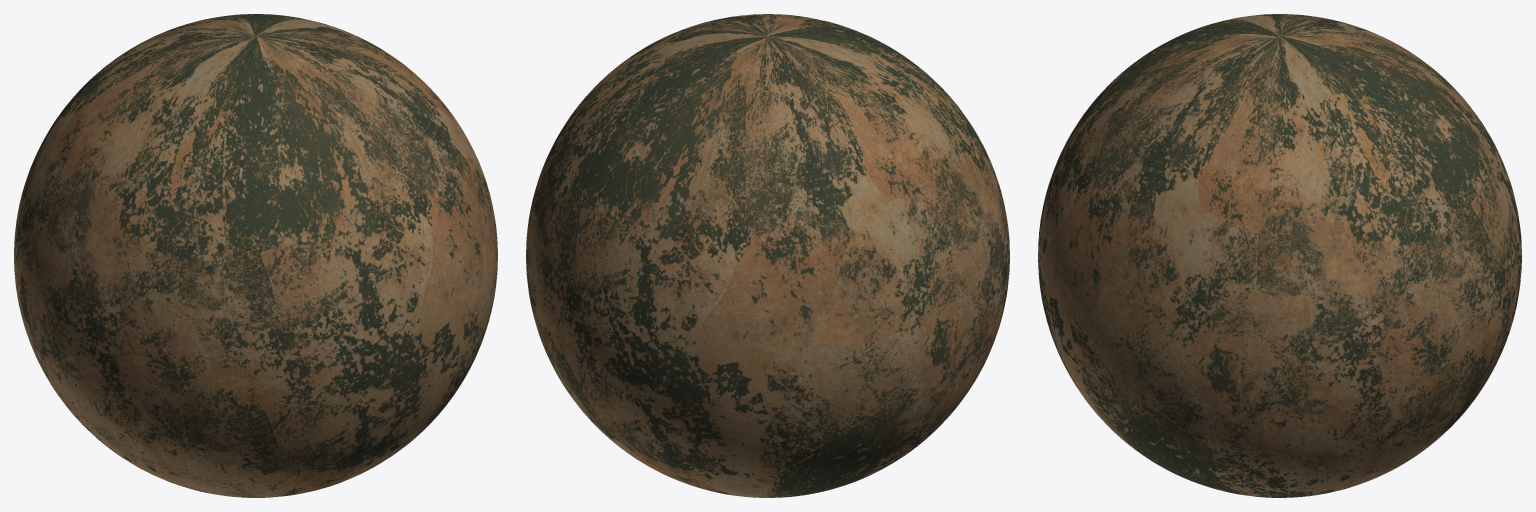
Rendered from worn_concrete_floor_1k.gltf.
The picture shows the model from 3 angles, left to right: view 1: azimuth 30°, elevation 25°; view 2: azimuth 150°, elevation 25°; view 3: azimuth 270°, elevation 25°; orthographic projection.
Visible parts, largest first — view 1: sphere_gltf; view 2: sphere_gltf; view 3: sphere_gltf.
Boxes of the visible parts, x1,y1,x2,y2 form: sphere_gltf: (14, 14, 497, 497); sphere_gltf: (526, 14, 1009, 497); sphere_gltf: (1038, 14, 1521, 497).
Bounding box in the file's own units: 2 × 2 × 2.
1 material, 1 textured.
